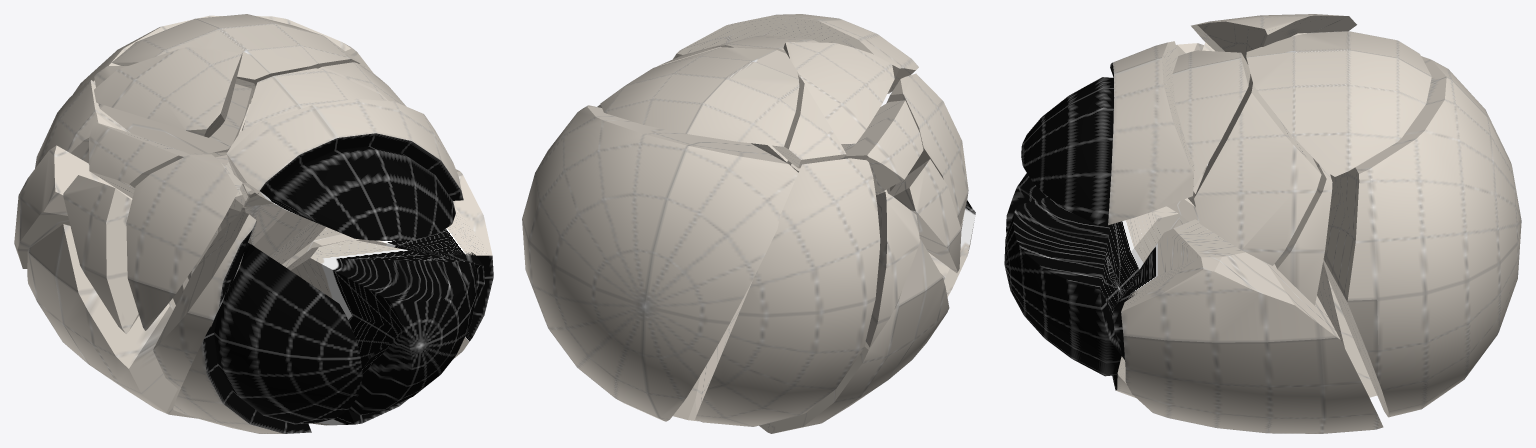
Rendered from heavy_wreckage2.fbx.
3 views of the same model, side by side, from view 1: azimuth 30°, elevation 25°; view 2: azimuth 150°, elevation 25°; view 3: azimuth 270°, elevation 25° (orthographic). The views are drawn at different scales.
Parts seen in each view (by area): view 1: broke_hull; view 2: broke_hull; view 3: broke_hull.
Boxes of the visible parts, box(x1,y1,x2,y2) form: broke_hull: box(14, 14, 493, 433); broke_hull: box(522, 14, 975, 433); broke_hull: box(1004, 14, 1521, 433).
Bounding box in the file's own units: 5.79 × 5.32 × 6.79.
1 material, 1 textured.
